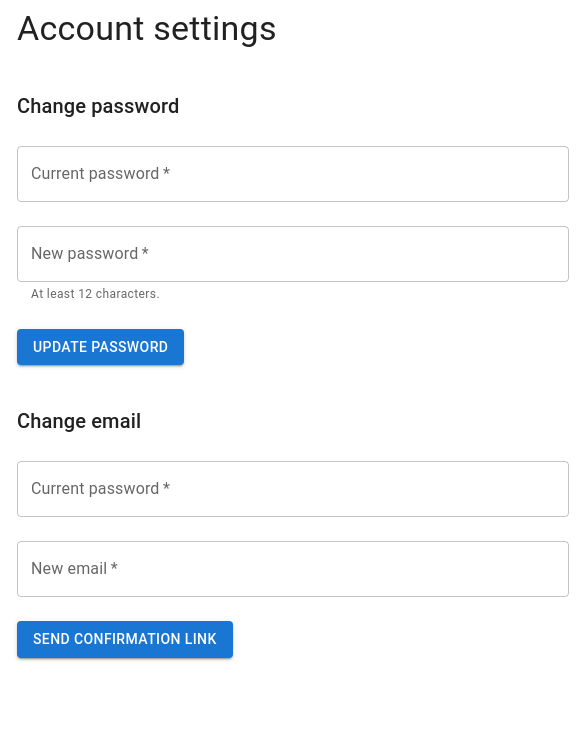
Scenario: AccountPage › surfaces an incorrect-current-password error on the password form
Type "wrong-password" into the password field labelled "Current password *" below "Change password" at (293, 174), box [17, 146, 569, 202]
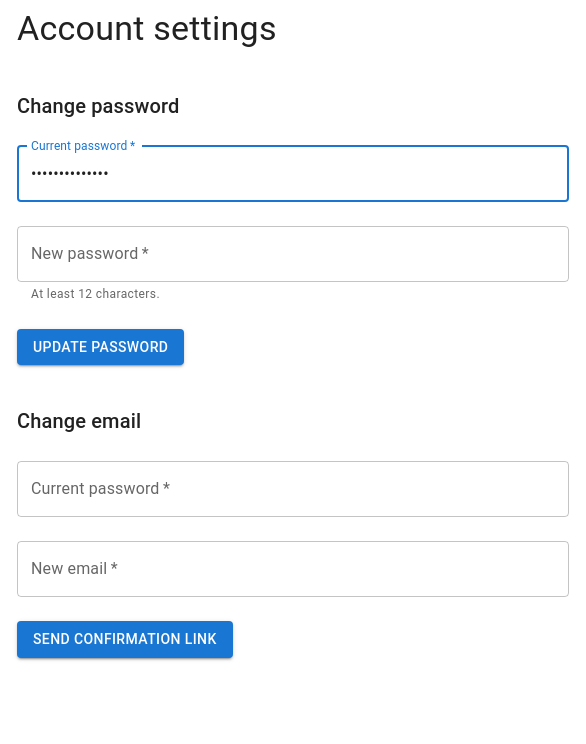
Type "a-brand-new-password" into the password field labelled "New password *" at (293, 254), box [17, 226, 569, 282]
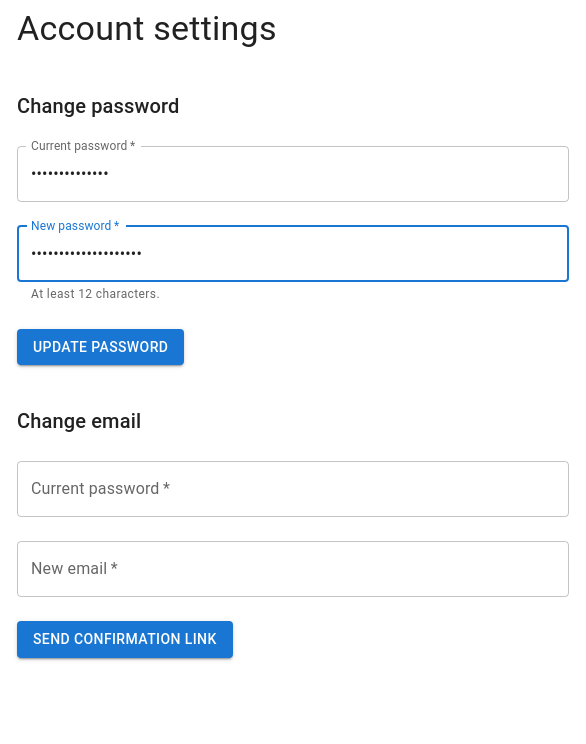
Click the button "Update password" at (101, 347), box [17, 329, 184, 365]
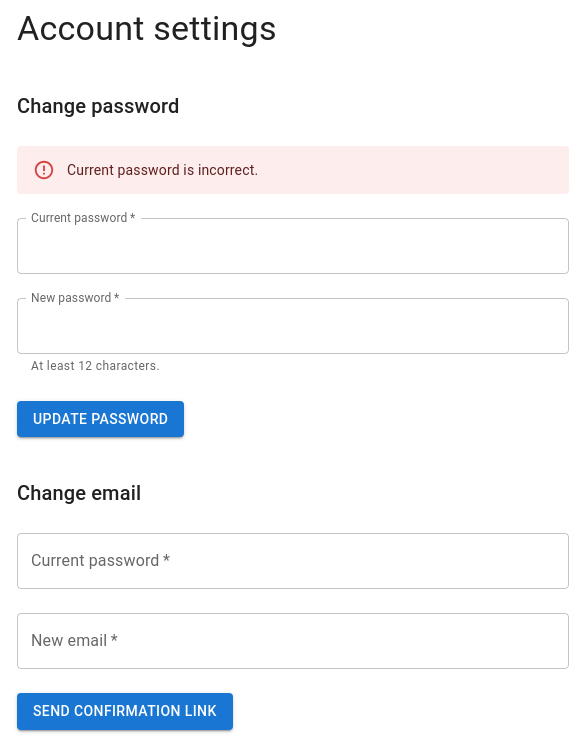
Result: the text "Current password is incorrect." is shown at [67, 162, 258, 178]
